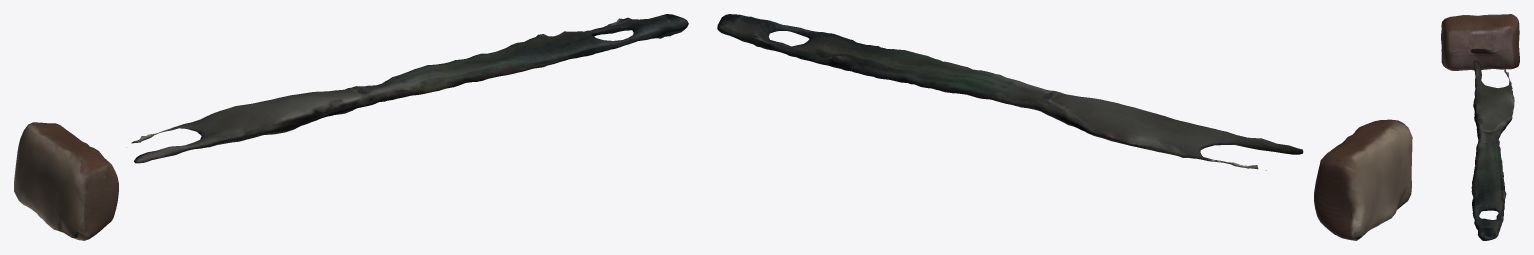
Rendered from knife.obj.
3 views of the same model, side by side, from view 1: azimuth 30°, elevation 25°; view 2: azimuth 150°, elevation 25°; view 3: azimuth 270°, elevation 25° (orthographic). The views are drawn at different scales.
Parts seen in each view (by area): view 1: Mesh; view 2: Mesh; view 3: Mesh.
Part boxes in pixels (x1,y1,x2,y2): Mesh: [14, 14, 688, 240]; Mesh: [717, 14, 1412, 240]; Mesh: [1441, 14, 1519, 240].
Size of the model in its own units: 0.2054 by 0.0248 by 0.0335.
1 material, 1 textured.
